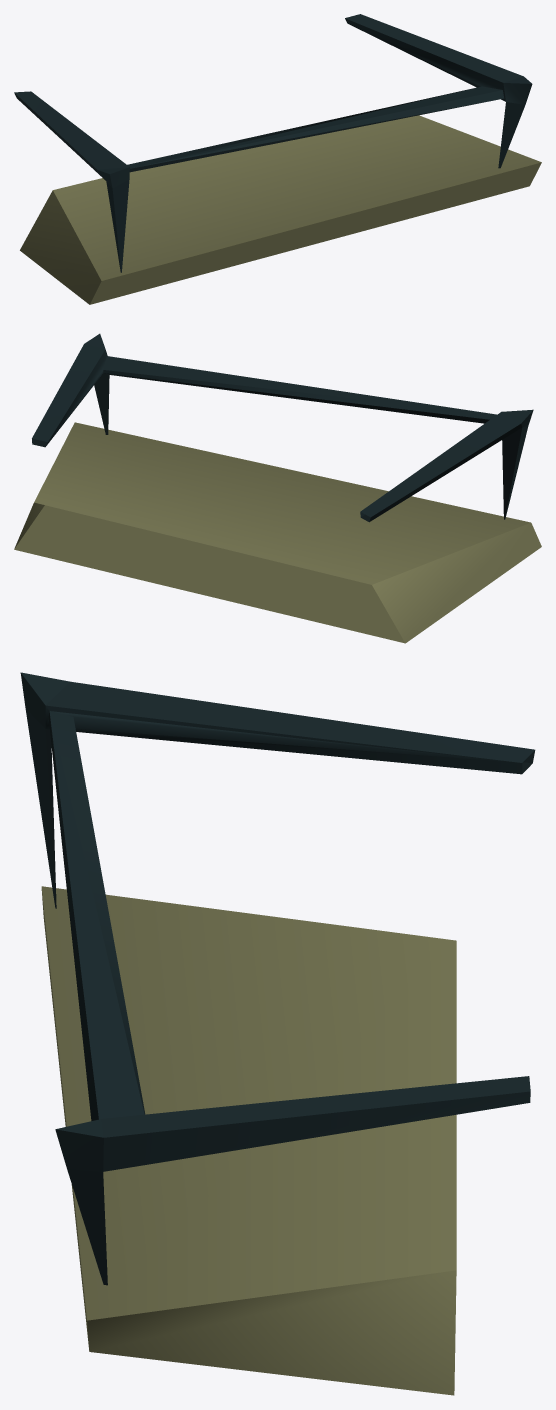
The model's file is c_house_porch_aa.fbx.
The picture shows the model from 3 angles, top to bottom: view 1: azimuth 30°, elevation 25°; view 2: azimuth 150°, elevation 25°; view 3: azimuth 270°, elevation 25°; orthographic projection. The views are drawn at different scales.
Parts seen in each view (by area): view 1: c_house_porch_aa; view 2: c_house_porch_aa; view 3: c_house_porch_aa.
Boxes of the visible parts, x1,y1,x2,y2 form: c_house_porch_aa: (14,14,541,304); c_house_porch_aa: (14,333,541,643); c_house_porch_aa: (20,672,535,1395).
Size of the model in its own units: 4.63 by 1.56 by 2.26.
